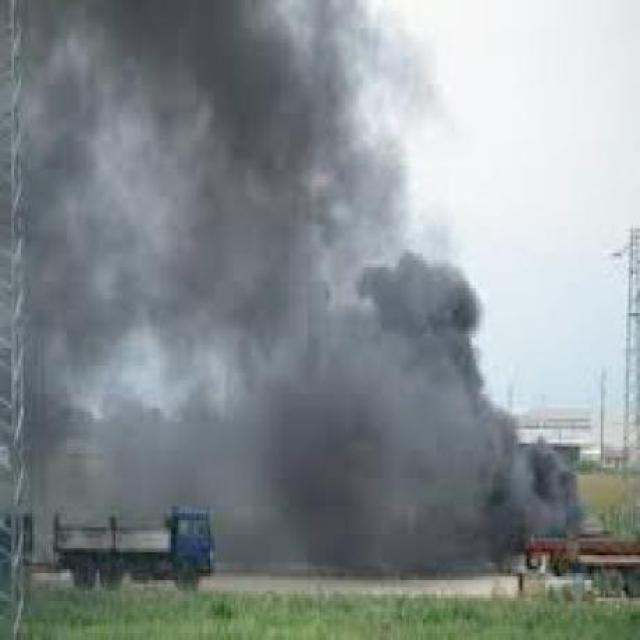Smoke: (11, 0, 356, 568), (361, 268, 578, 562)
